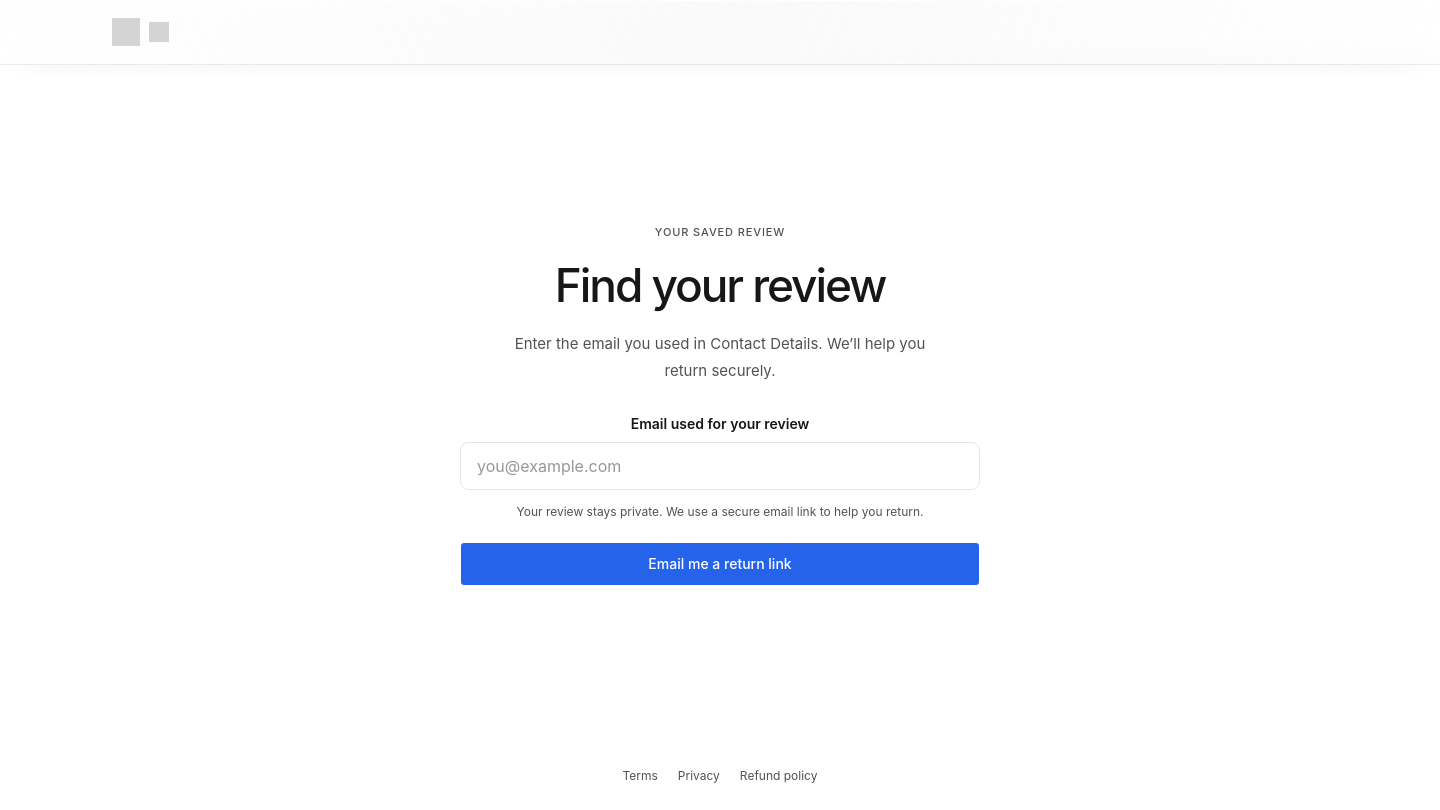
Scenario: secure preview return › supports email-only recovery with neutral responses and a fresh security check for each request
In the field labelled "Email used for your review": point(720, 466) left=460, top=442, right=980, bottom=490, type "PREVIEW@EXAMPLE.TEST"
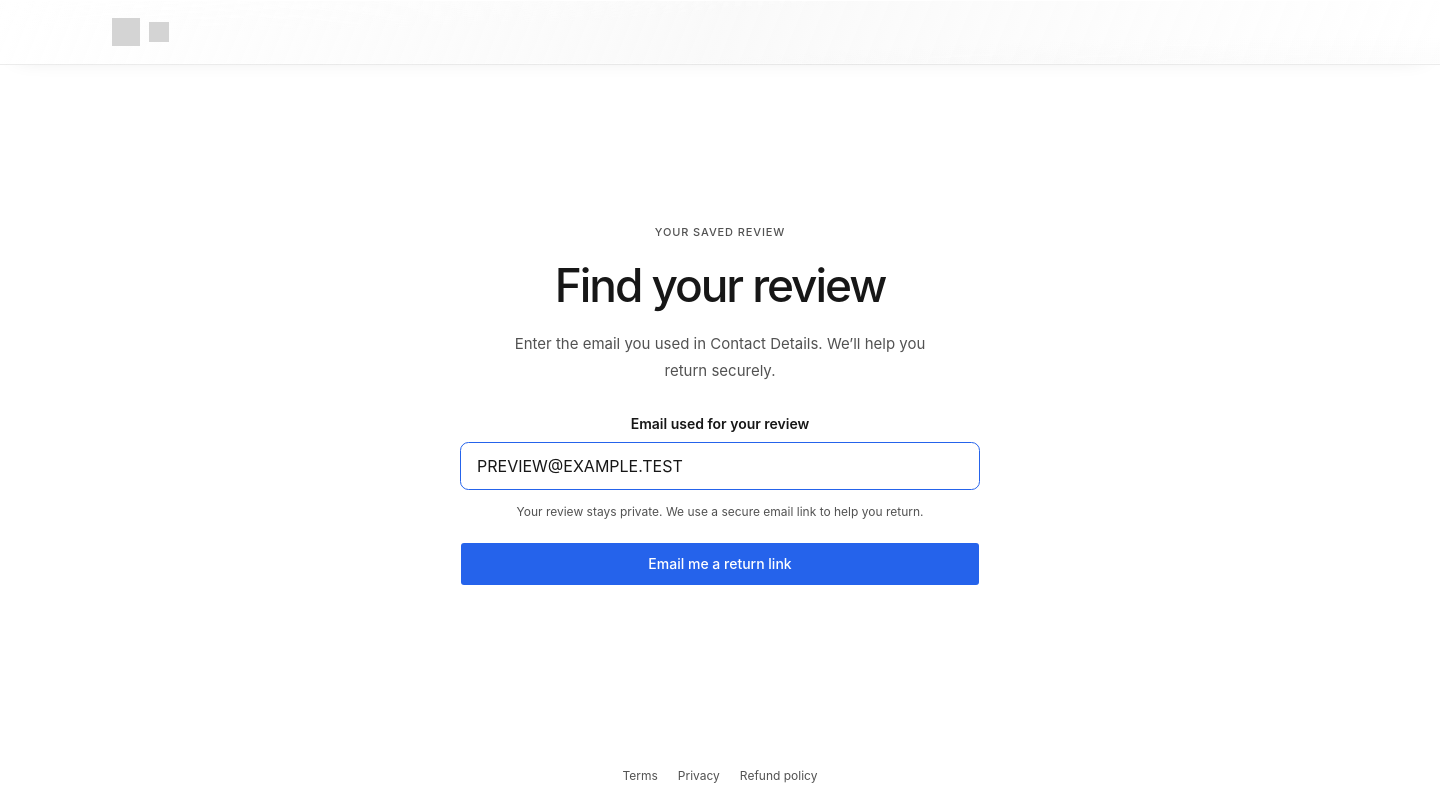
Click the button "Email me a return link": point(720, 564) left=460, top=542, right=980, bottom=586
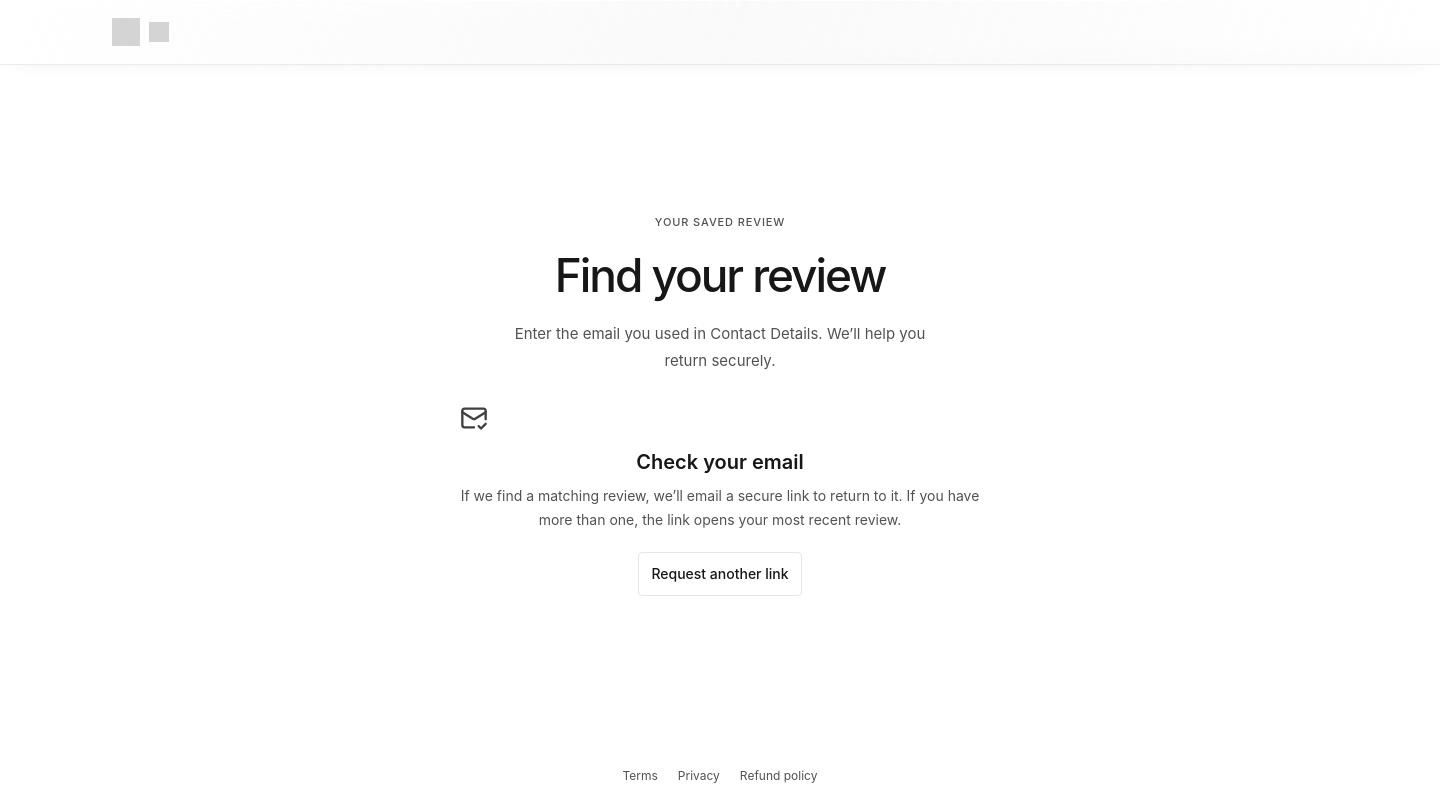
Expected: the heading "Check your email" is shown, left=636, top=450, right=804, bottom=474
Expected: the text "If we find a matching review" is shown, left=461, top=487, right=903, bottom=504
Click the button "Request another link": point(720, 574) left=638, top=552, right=802, bottom=596
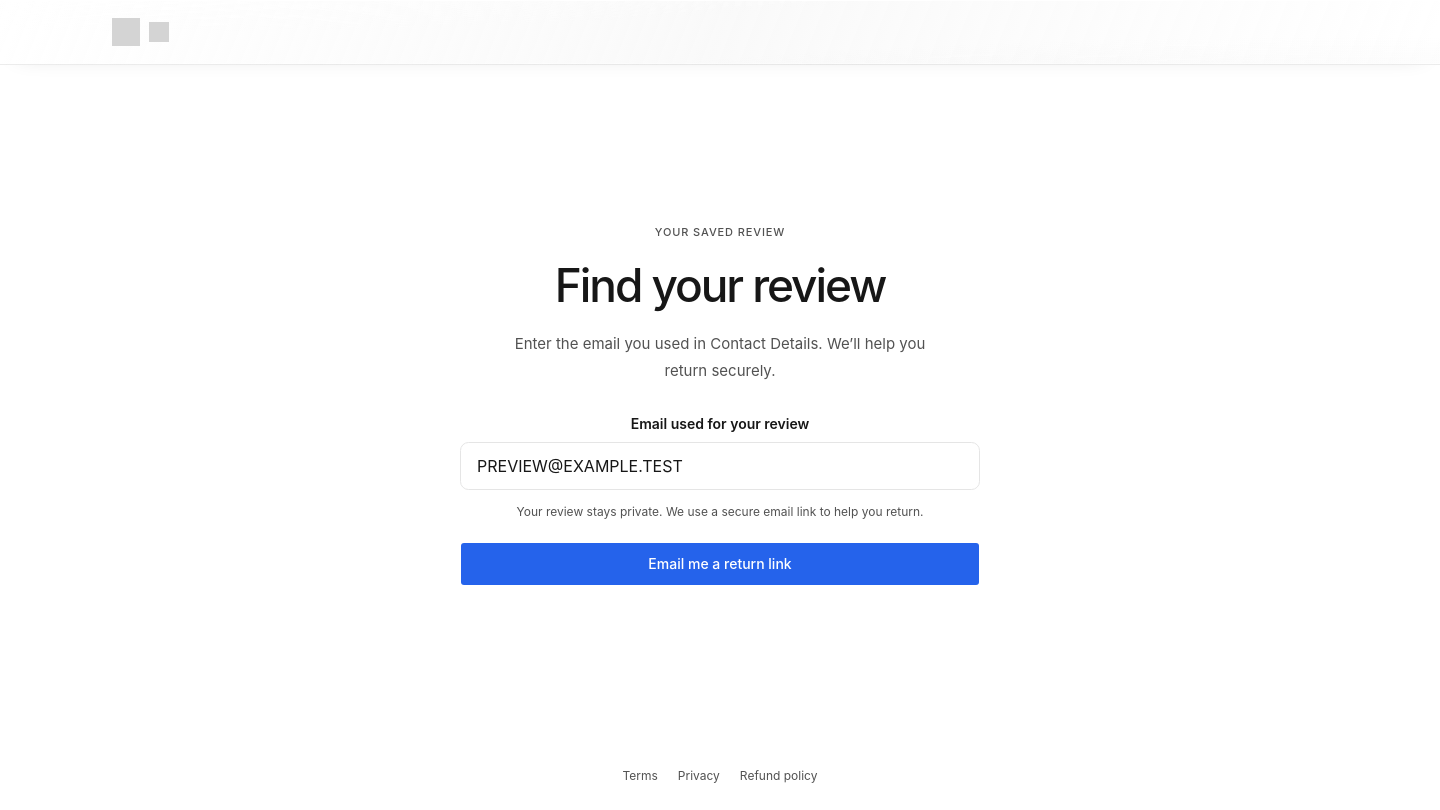
Click the button "Email me a return link": point(720, 564) left=460, top=542, right=980, bottom=586
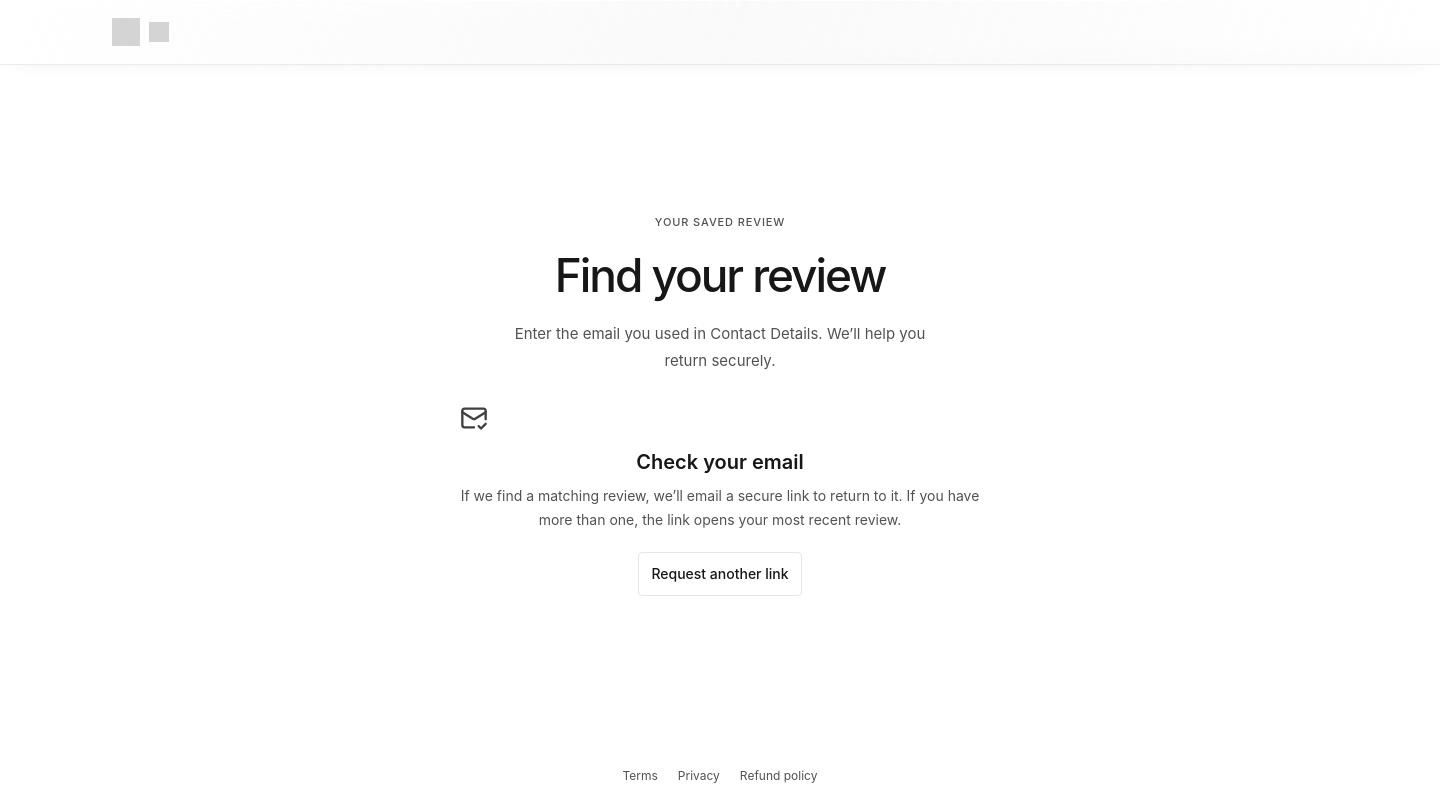
Expected: the heading "Check your email" is shown, left=636, top=450, right=804, bottom=474
